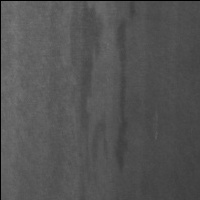inclusion: (72, 2, 111, 176), (110, 2, 136, 176)
